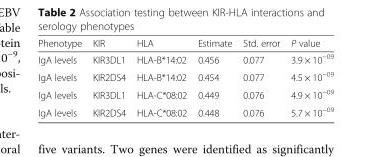table: (37, 37, 333, 118)
table column: (130, 37, 191, 118), (37, 37, 86, 118), (284, 37, 333, 118), (236, 37, 284, 118), (191, 37, 236, 118), (86, 37, 130, 118)
table column header: (37, 37, 333, 50)
table row: (37, 84, 333, 102), (37, 50, 333, 67), (37, 67, 333, 84), (37, 102, 333, 118), (37, 37, 333, 50)
